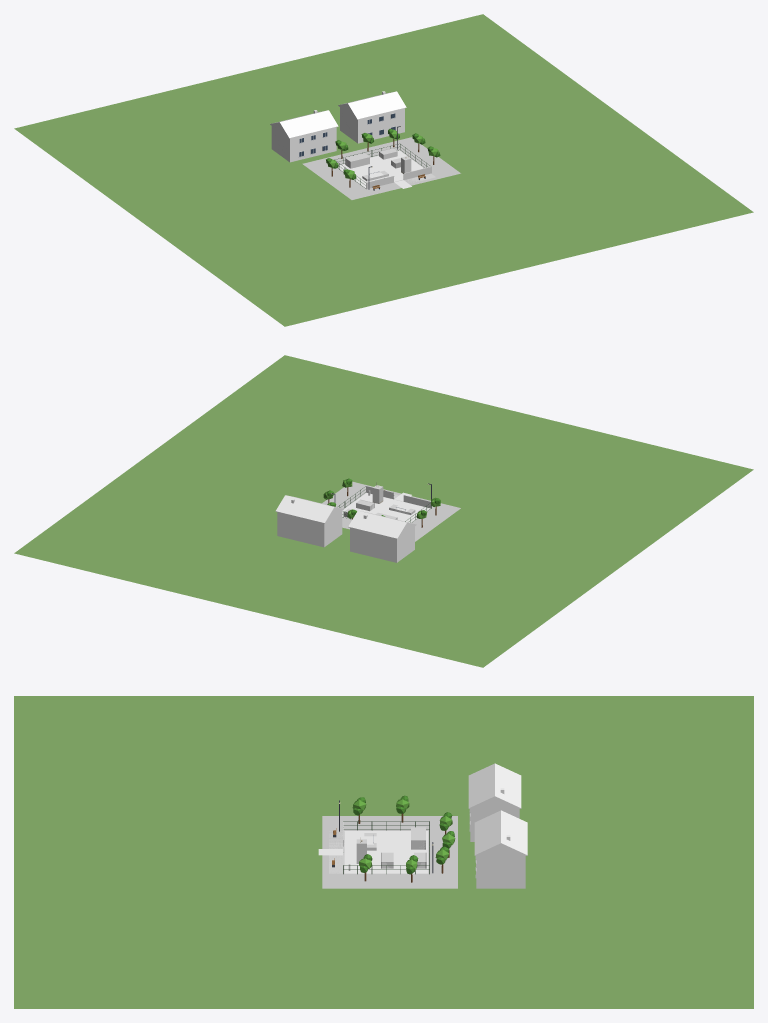
File: job6.glb
3 renders of one model, top to bottom at view 1: azimuth 30°, elevation 25°; view 2: azimuth 150°, elevation 25°; view 3: azimuth 270°, elevation 25°, orthographic. The views are drawn at different scales.
Parts seen in each view (by area): view 1: j6_bg, j6_w_floor_b; view 2: j6_bg; view 3: j6_bg, j6_w_floor_a, j6_w_floor_b.
Boxes of the visible parts, x1,y1,x2,y2 form: j6_bg: (14, 14, 753, 326); j6_w_floor_b: (370, 150, 423, 180); j6_bg: (14, 355, 753, 667); j6_bg: (14, 696, 753, 1008); j6_w_floor_a: (344, 831, 428, 852); j6_w_floor_b: (344, 852, 428, 873).
Bounding box in the file's own units: 120 × 8.41 × 120.
